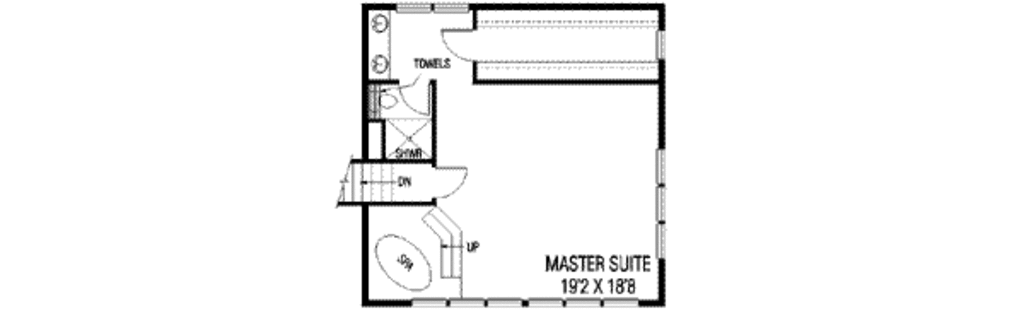door: (431, 27, 486, 63), (434, 162, 476, 203), (396, 73, 433, 116)
large_sink: (368, 81, 397, 117)
small_sink: (366, 2, 391, 79)
stairs: (333, 156, 402, 213)
window: (653, 23, 667, 64), (433, 1, 471, 15), (395, 1, 435, 13)
windows: (413, 295, 642, 308), (652, 148, 666, 255)
